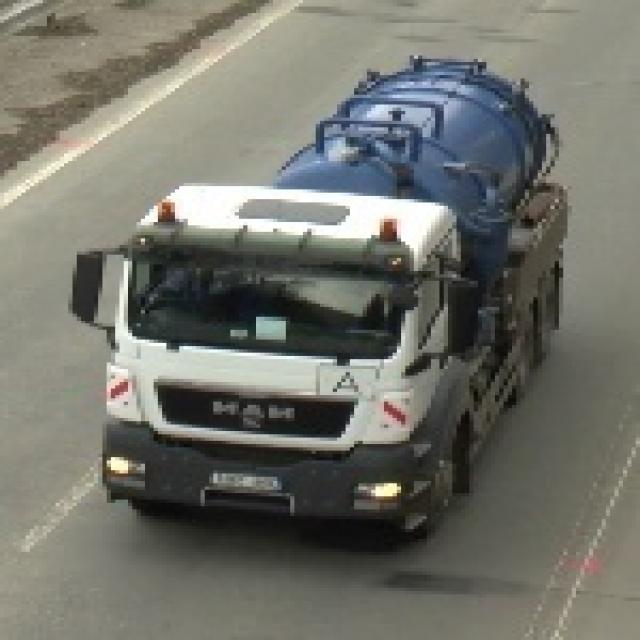Truck: (64, 49, 572, 539)
